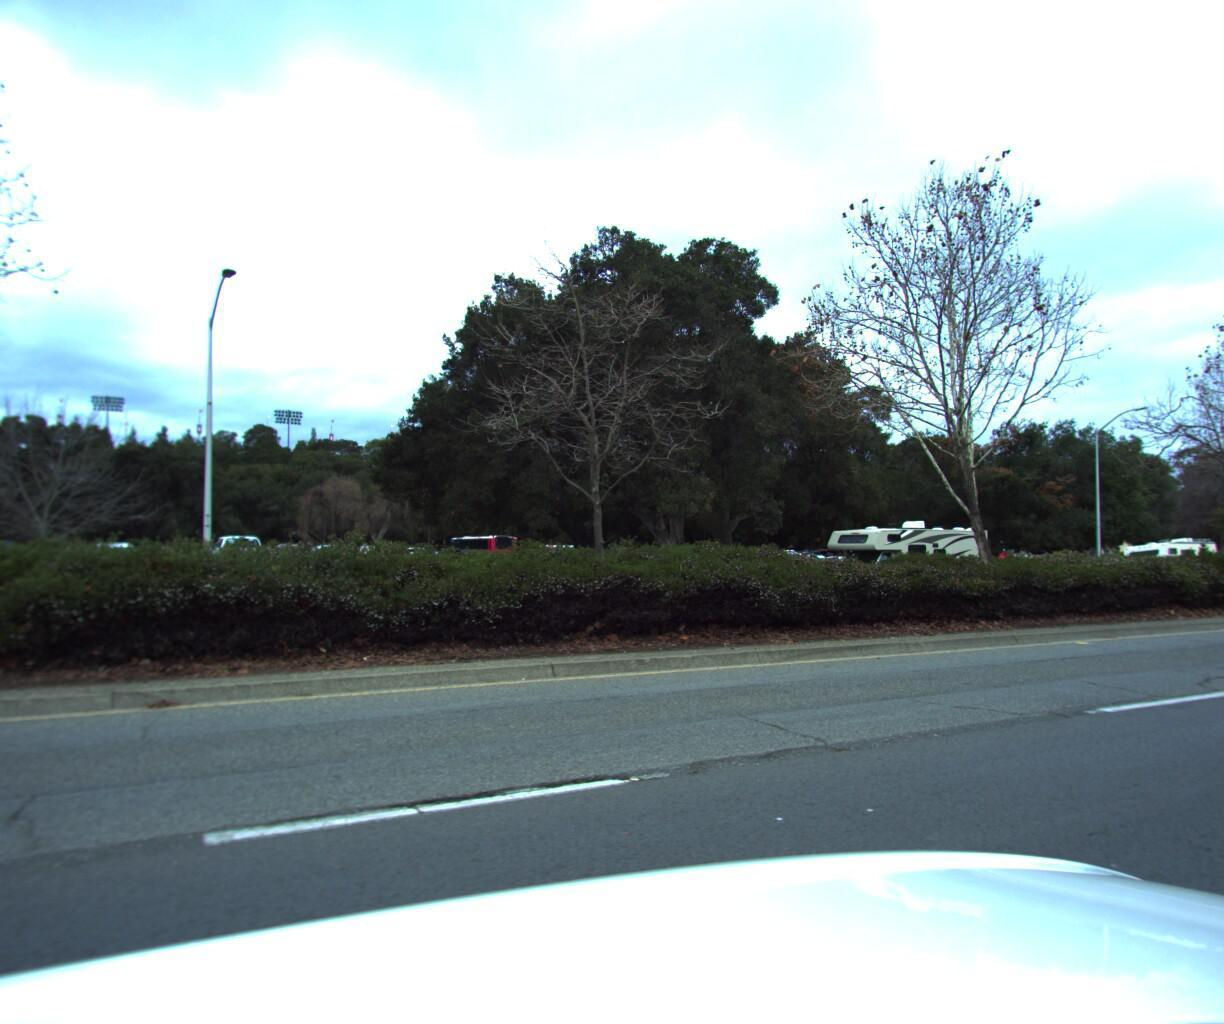other_vehicle: (817, 513, 994, 601), (1094, 533, 1215, 587)
